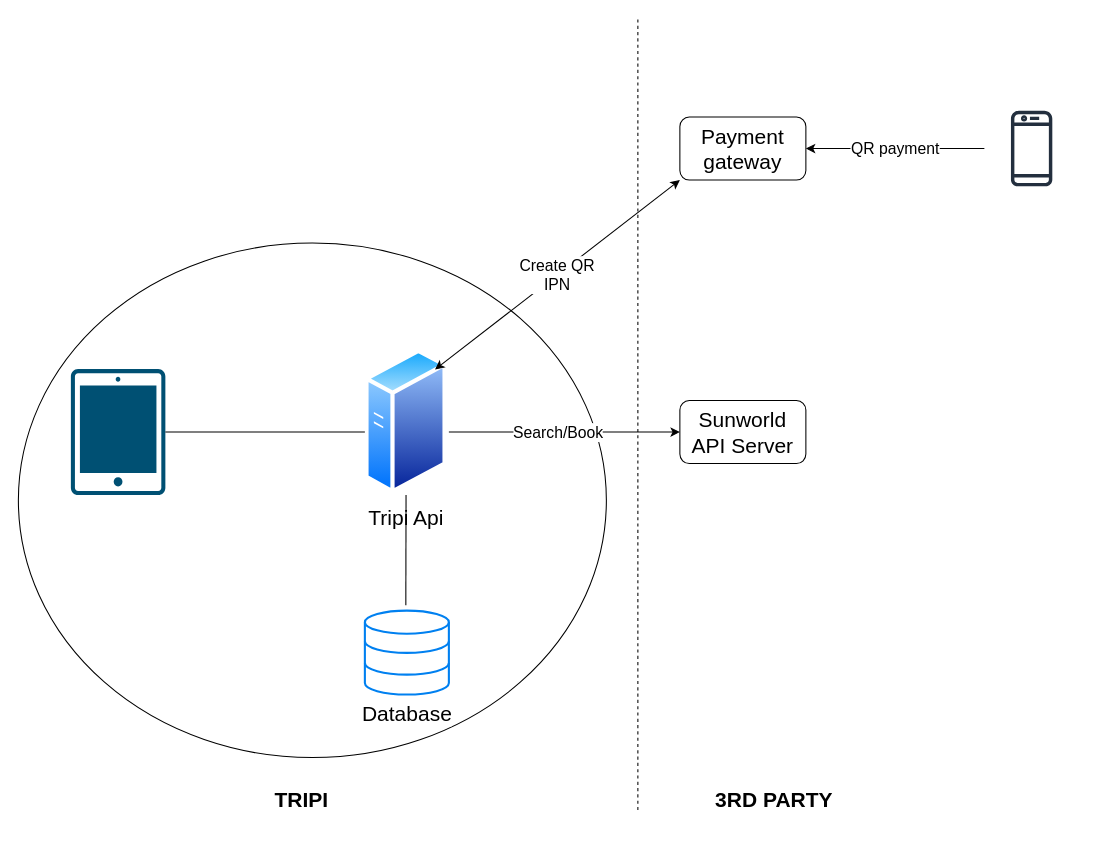
The diagram is 1106 pixels wide and 849 high, and some of its shapes have lost their labels. Each missing label, with the centre of its shape:
Self Order: pixel 117 432
User mobile: pixel 1031 148
